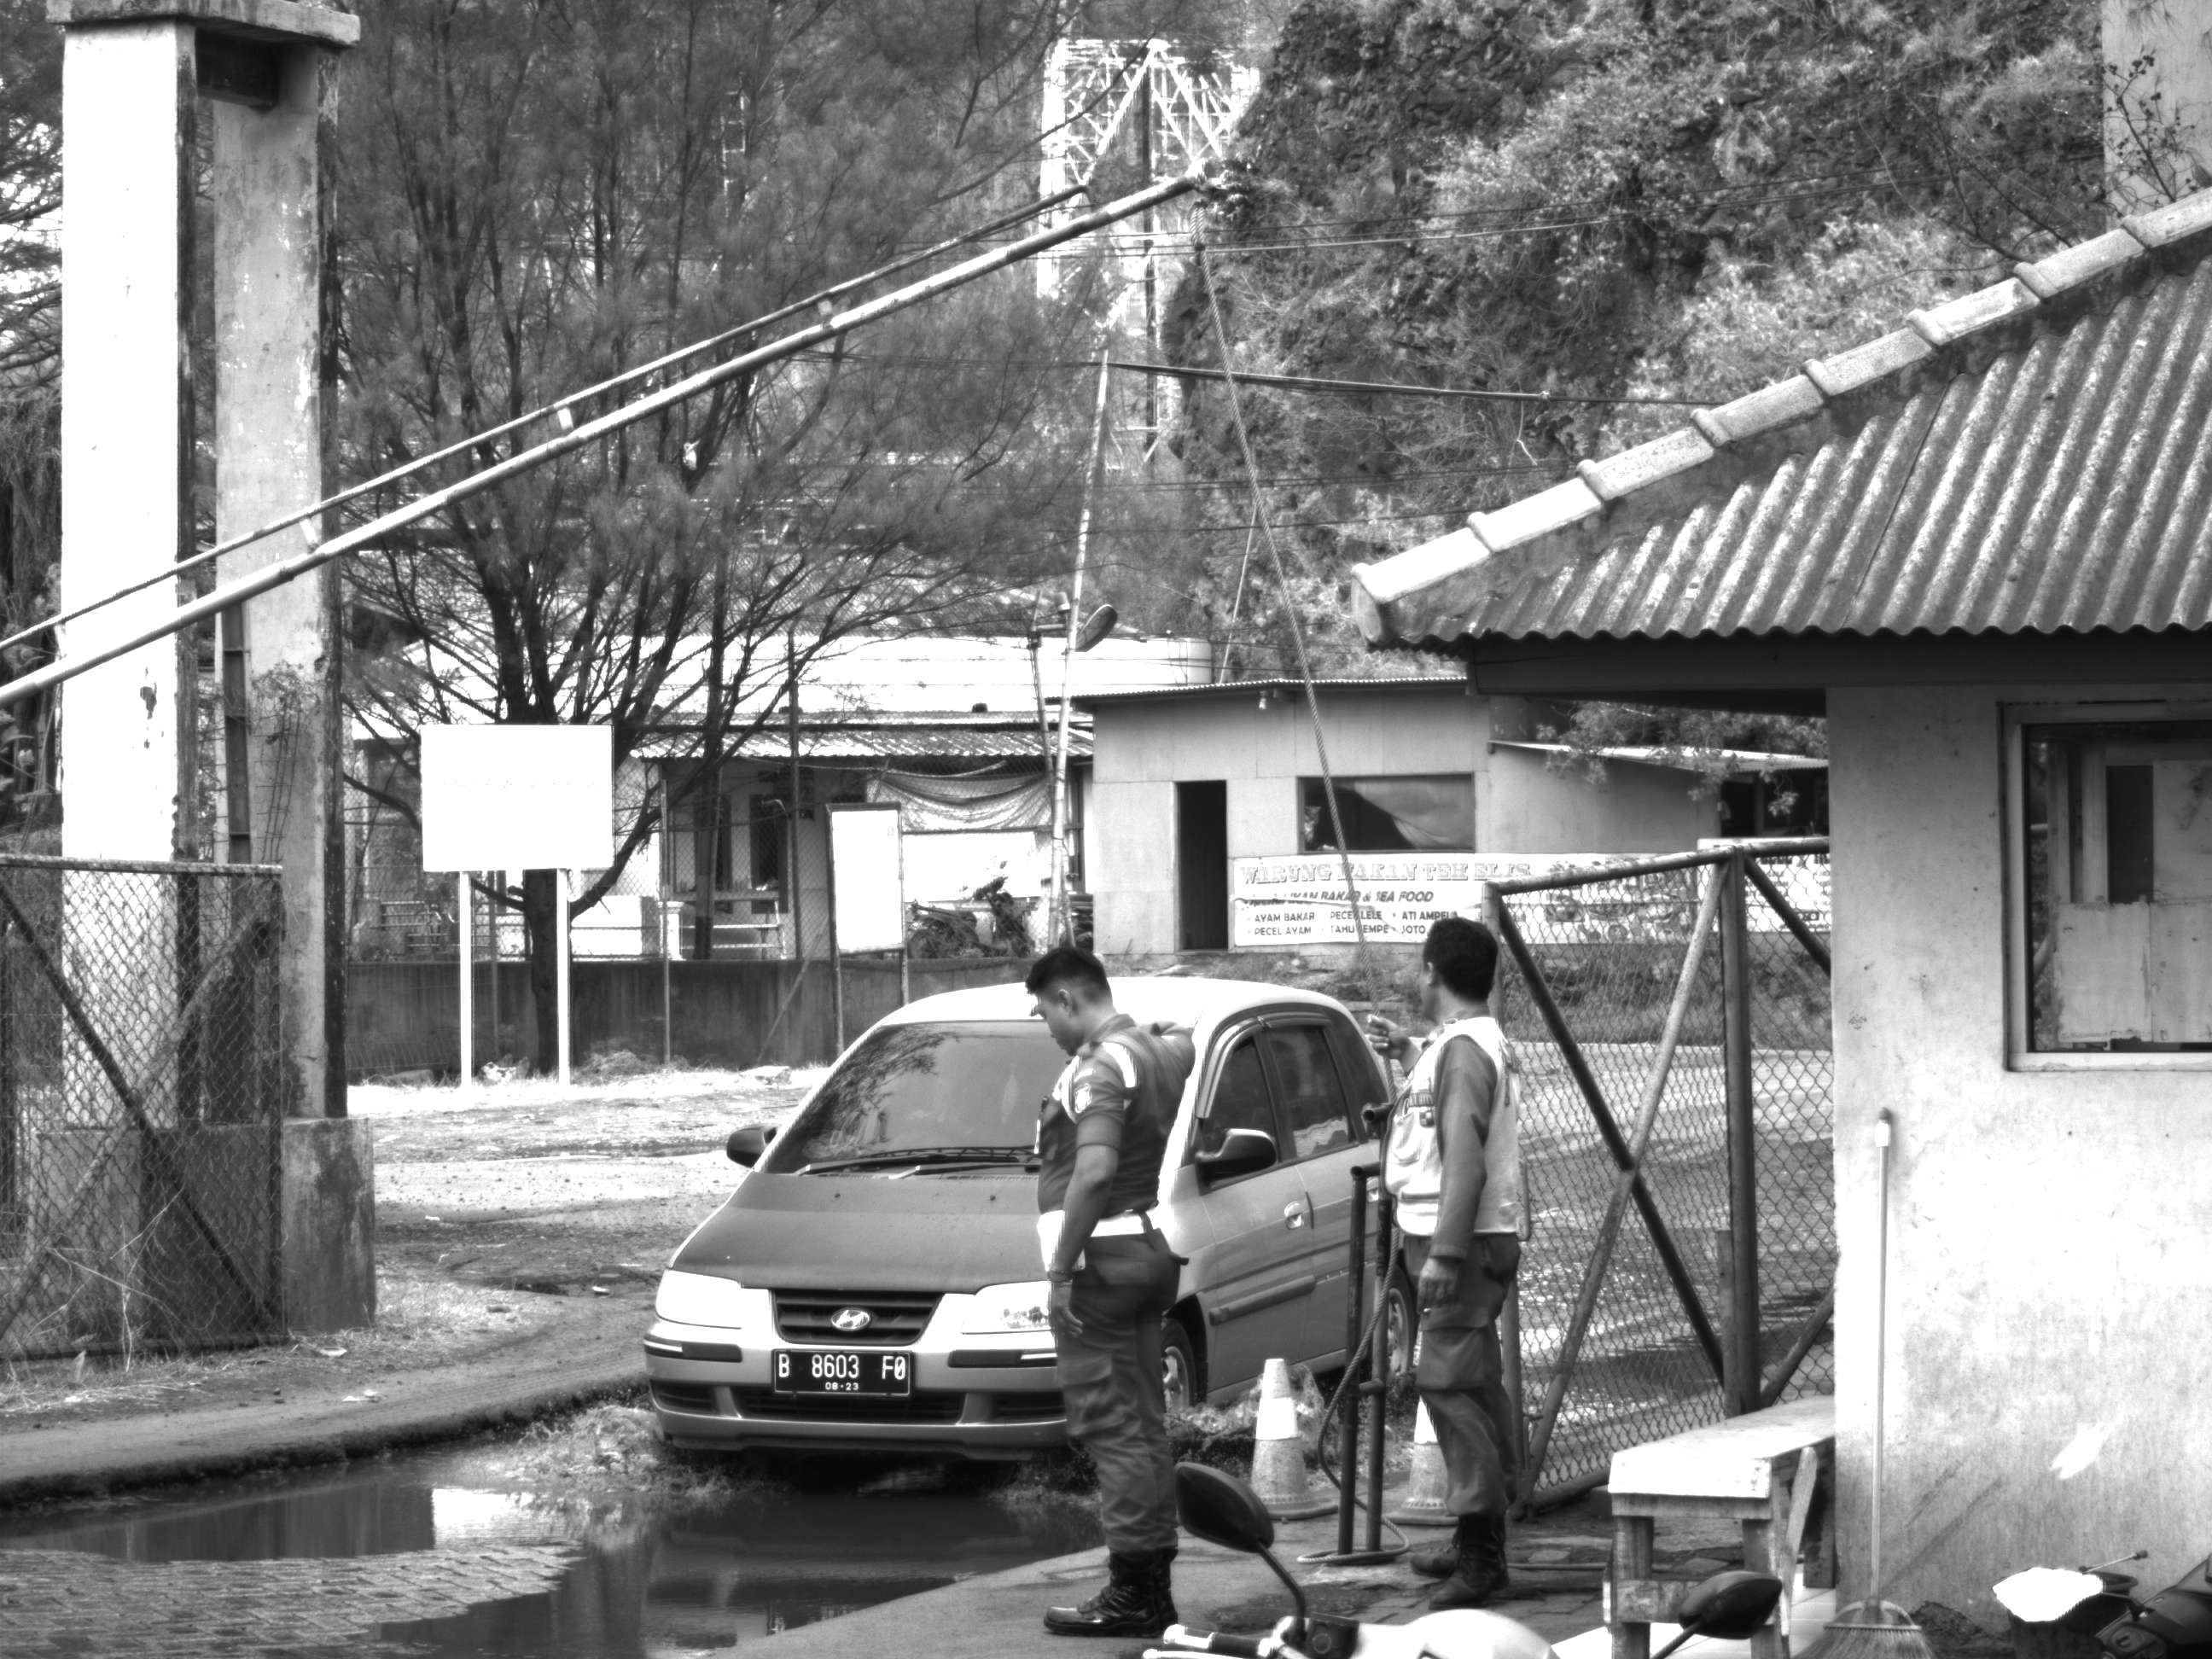day_small_front: (636, 987, 1216, 1476)
plate: (765, 1344, 925, 1394)
